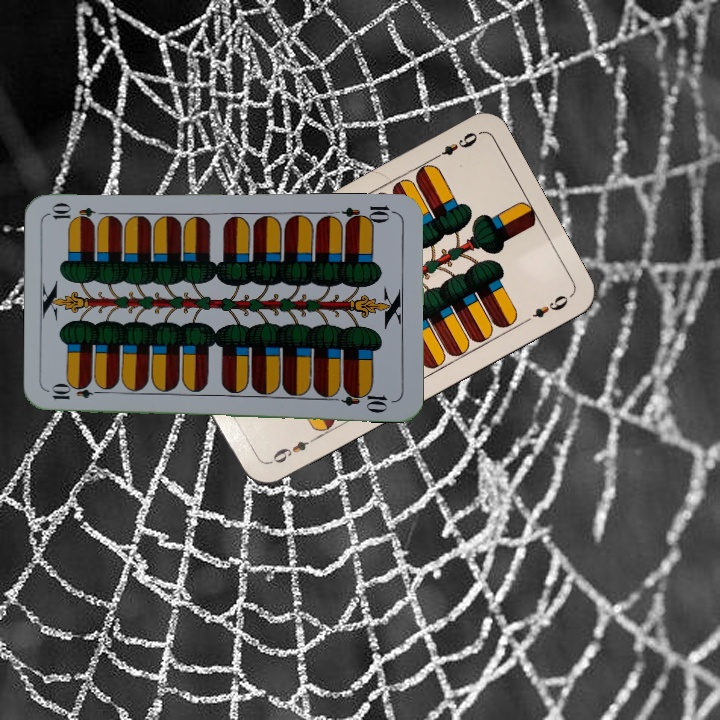E10: (339, 202, 398, 228), (48, 384, 107, 402)
E9: (427, 128, 480, 164), (263, 433, 319, 467)
